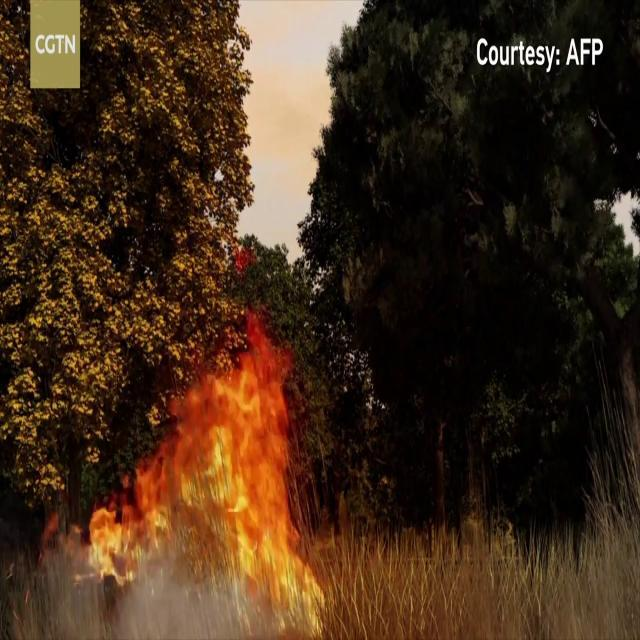Fire: (66, 319, 330, 622)
